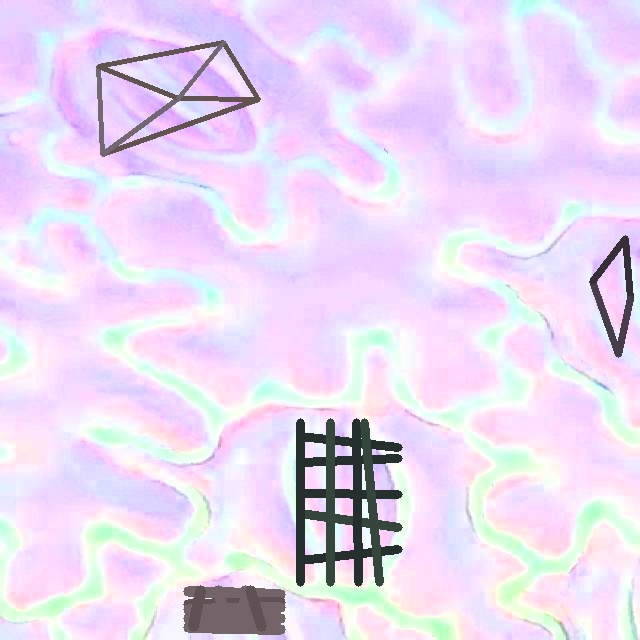open: (96, 40, 260, 156), (297, 418, 402, 585), (590, 236, 633, 356), (183, 586, 285, 631)
